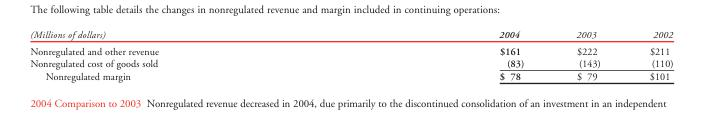table: (29, 28, 672, 81)
table column: (29, 28, 328, 81), (328, 28, 549, 81), (549, 28, 624, 81), (624, 28, 672, 81)
table column header: (29, 28, 672, 42)
table row: (29, 28, 672, 42), (29, 42, 672, 56), (29, 56, 672, 69), (29, 69, 672, 81)
